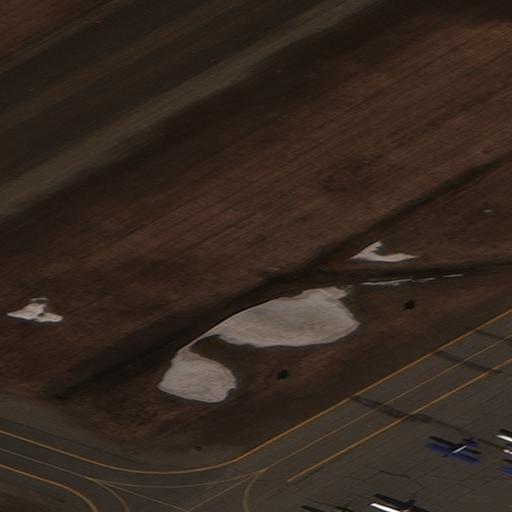Small Civil Transport: (425, 440, 473, 464), (374, 501, 417, 512)
